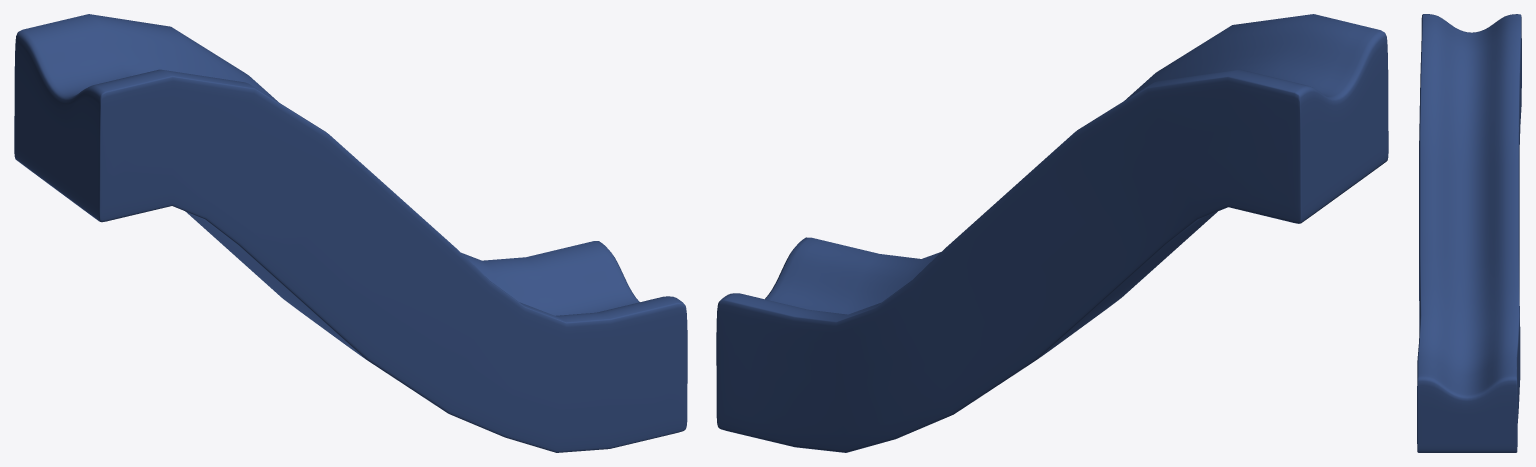
Rendered from ramp.fbx.
3 views of the same model, side by side, from view 1: azimuth 30°, elevation 25°; view 2: azimuth 150°, elevation 25°; view 3: azimuth 270°, elevation 25° (orthographic). The views are drawn at different scales.
Visible parts, largest first — view 1: ramp_track:ramp_track:pCube1; view 2: ramp_track:ramp_track:pCube1; view 3: ramp_track:ramp_track:pCube1.
Boxes of the visible parts, x1=… form: ramp_track:ramp_track:pCube1: x1=14, y1=14, x2=687, y2=452; ramp_track:ramp_track:pCube1: x1=716, y1=14, x2=1388, y2=452; ramp_track:ramp_track:pCube1: x1=1417, y1=14, x2=1521, y2=452.
Size of the model in its own units: 17.71 by 13.82 by 4.75.
